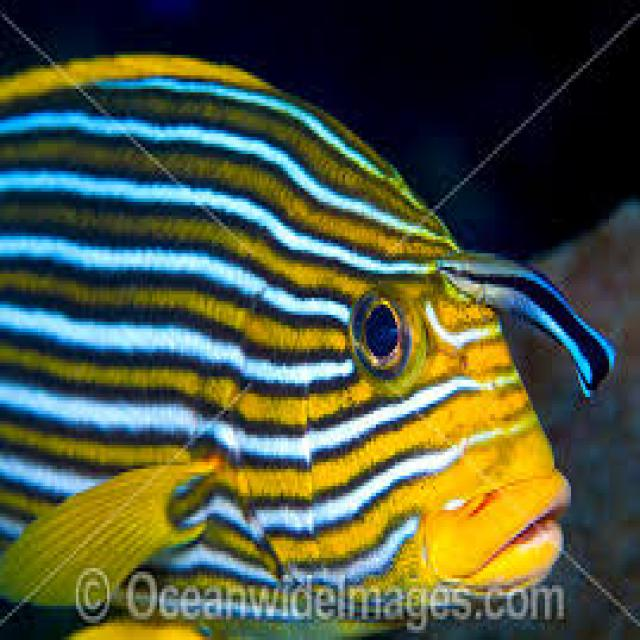RibbonedSweetlips: (0, 44, 572, 640)
